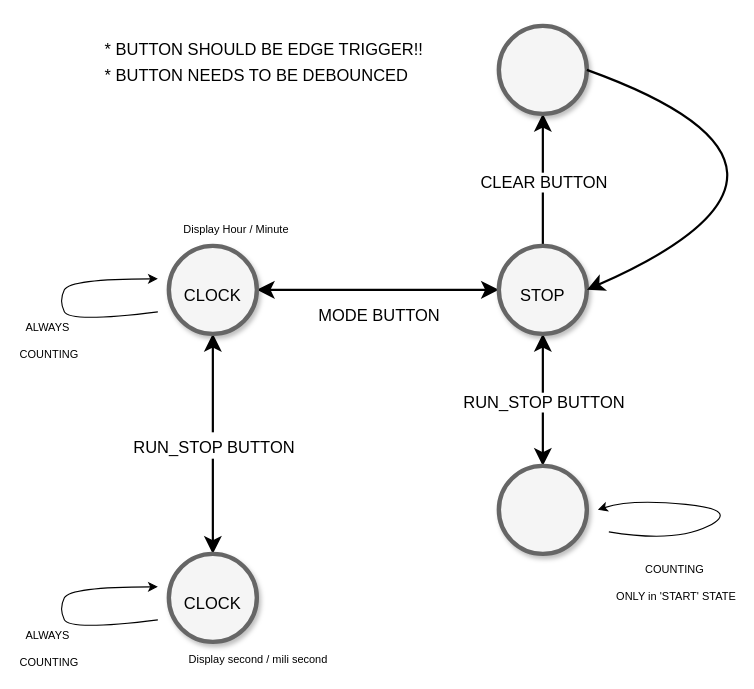
Some shapes in this 754 by 689 pixel diagram are drawn without their labels. Here are the shapes that lost their labels. From the top down, the centre of each, then its label:
At [543,71]: "CLEAR".
At [543,511]: "START".
